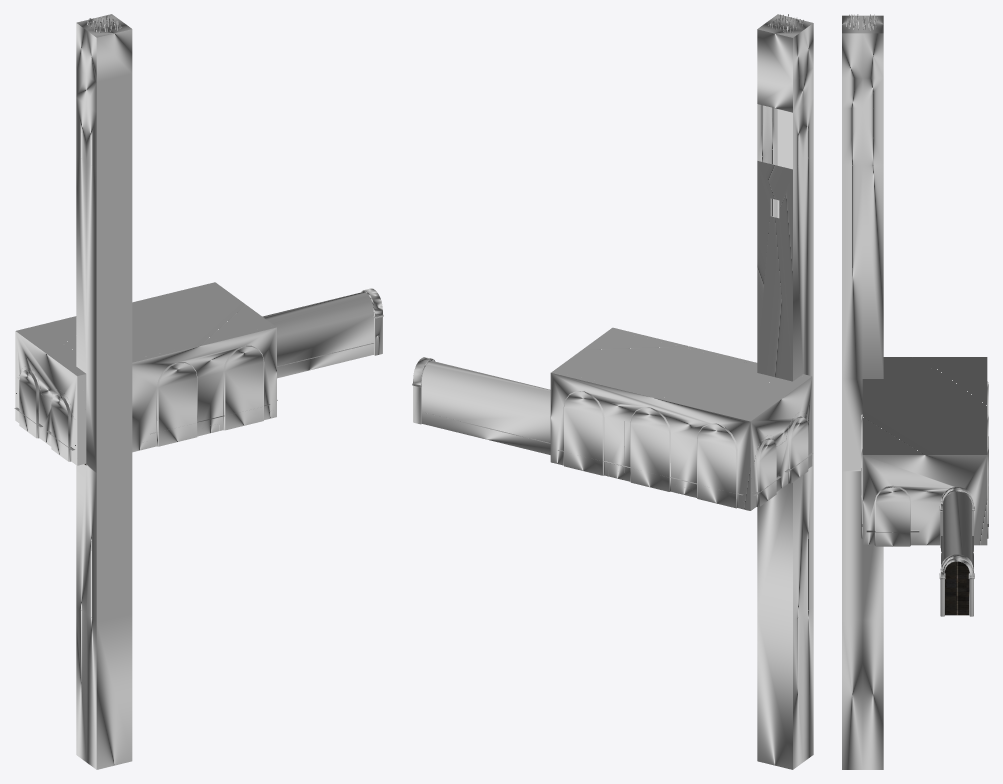
3 renders of one model, left to right at view 1: azimuth 30°, elevation 25°; view 2: azimuth 150°, elevation 25°; view 3: azimuth 270°, elevation 25°, orthographic.
Parts seen in each view (by area): view 1: mesh6, mesh2; view 2: mesh6, mesh2; view 3: mesh6, mesh2, mesh5, mesh3, mesh1, mesh0.
Part boxes in pixels (box(x1,y1,x2,y2)): mesh6: box(15, 14, 373, 769); mesh2: box(19, 317, 382, 461); mesh6: box(421, 14, 813, 769); mesh2: box(413, 385, 808, 508); mesh6: box(842, 15, 988, 769); mesh2: box(875, 487, 973, 616); mesh5: box(945, 561, 969, 615); mesh3: box(939, 487, 974, 579); mesh1: box(861, 436, 988, 572); mesh0: box(846, 14, 877, 30).
Bounding box in the file's own units: 24.37 × 49.4 × 8.85.
